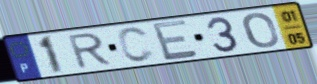1: (38, 33, 68, 76)
3: (205, 15, 240, 55)
C: (116, 26, 158, 65)
E: (149, 18, 201, 63)
O: (241, 11, 281, 50)
R: (66, 31, 115, 71)
